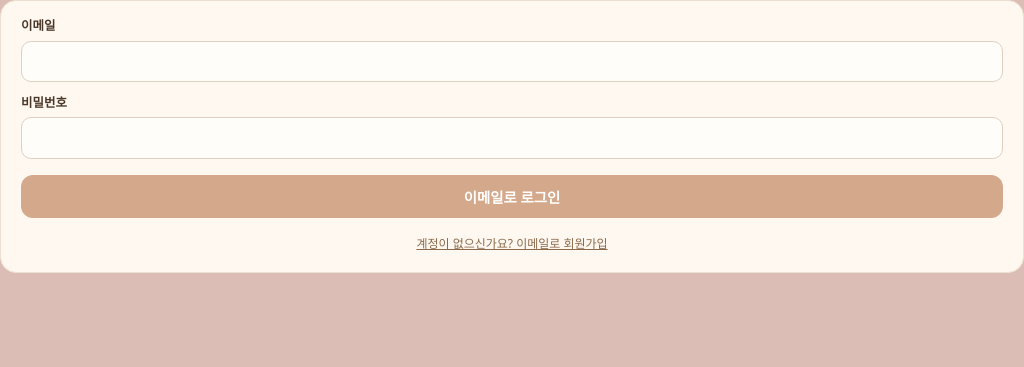
Test: EmailAuthForm › switches to signup mode with a confirmation field and new-password autocomplete
The image size is (1024, 367).
Click the button "계정이 없으신가요? 이메일로 회원가입".
click(512, 243)  # box [408,230,616,256]
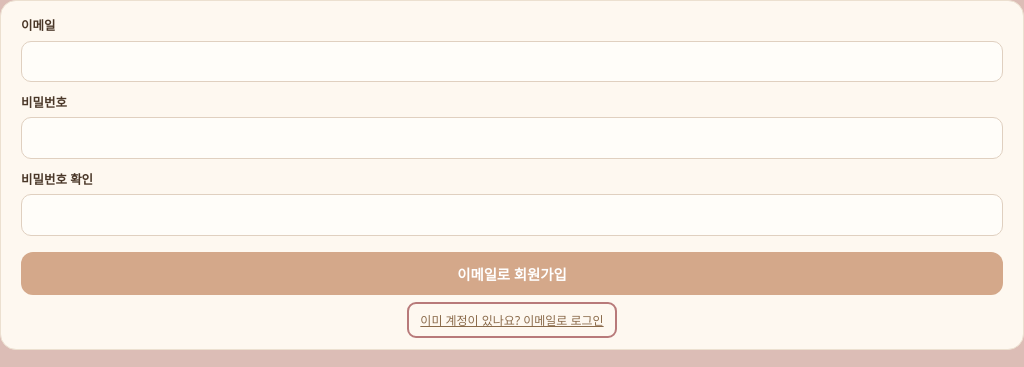
Expected: the button "이메일로 회원가입" is shown, [21,252,1003,295]
Expected: the button "이미 계정이 있나요? 이메일로 로그인" is shown, [412,307,612,333]
